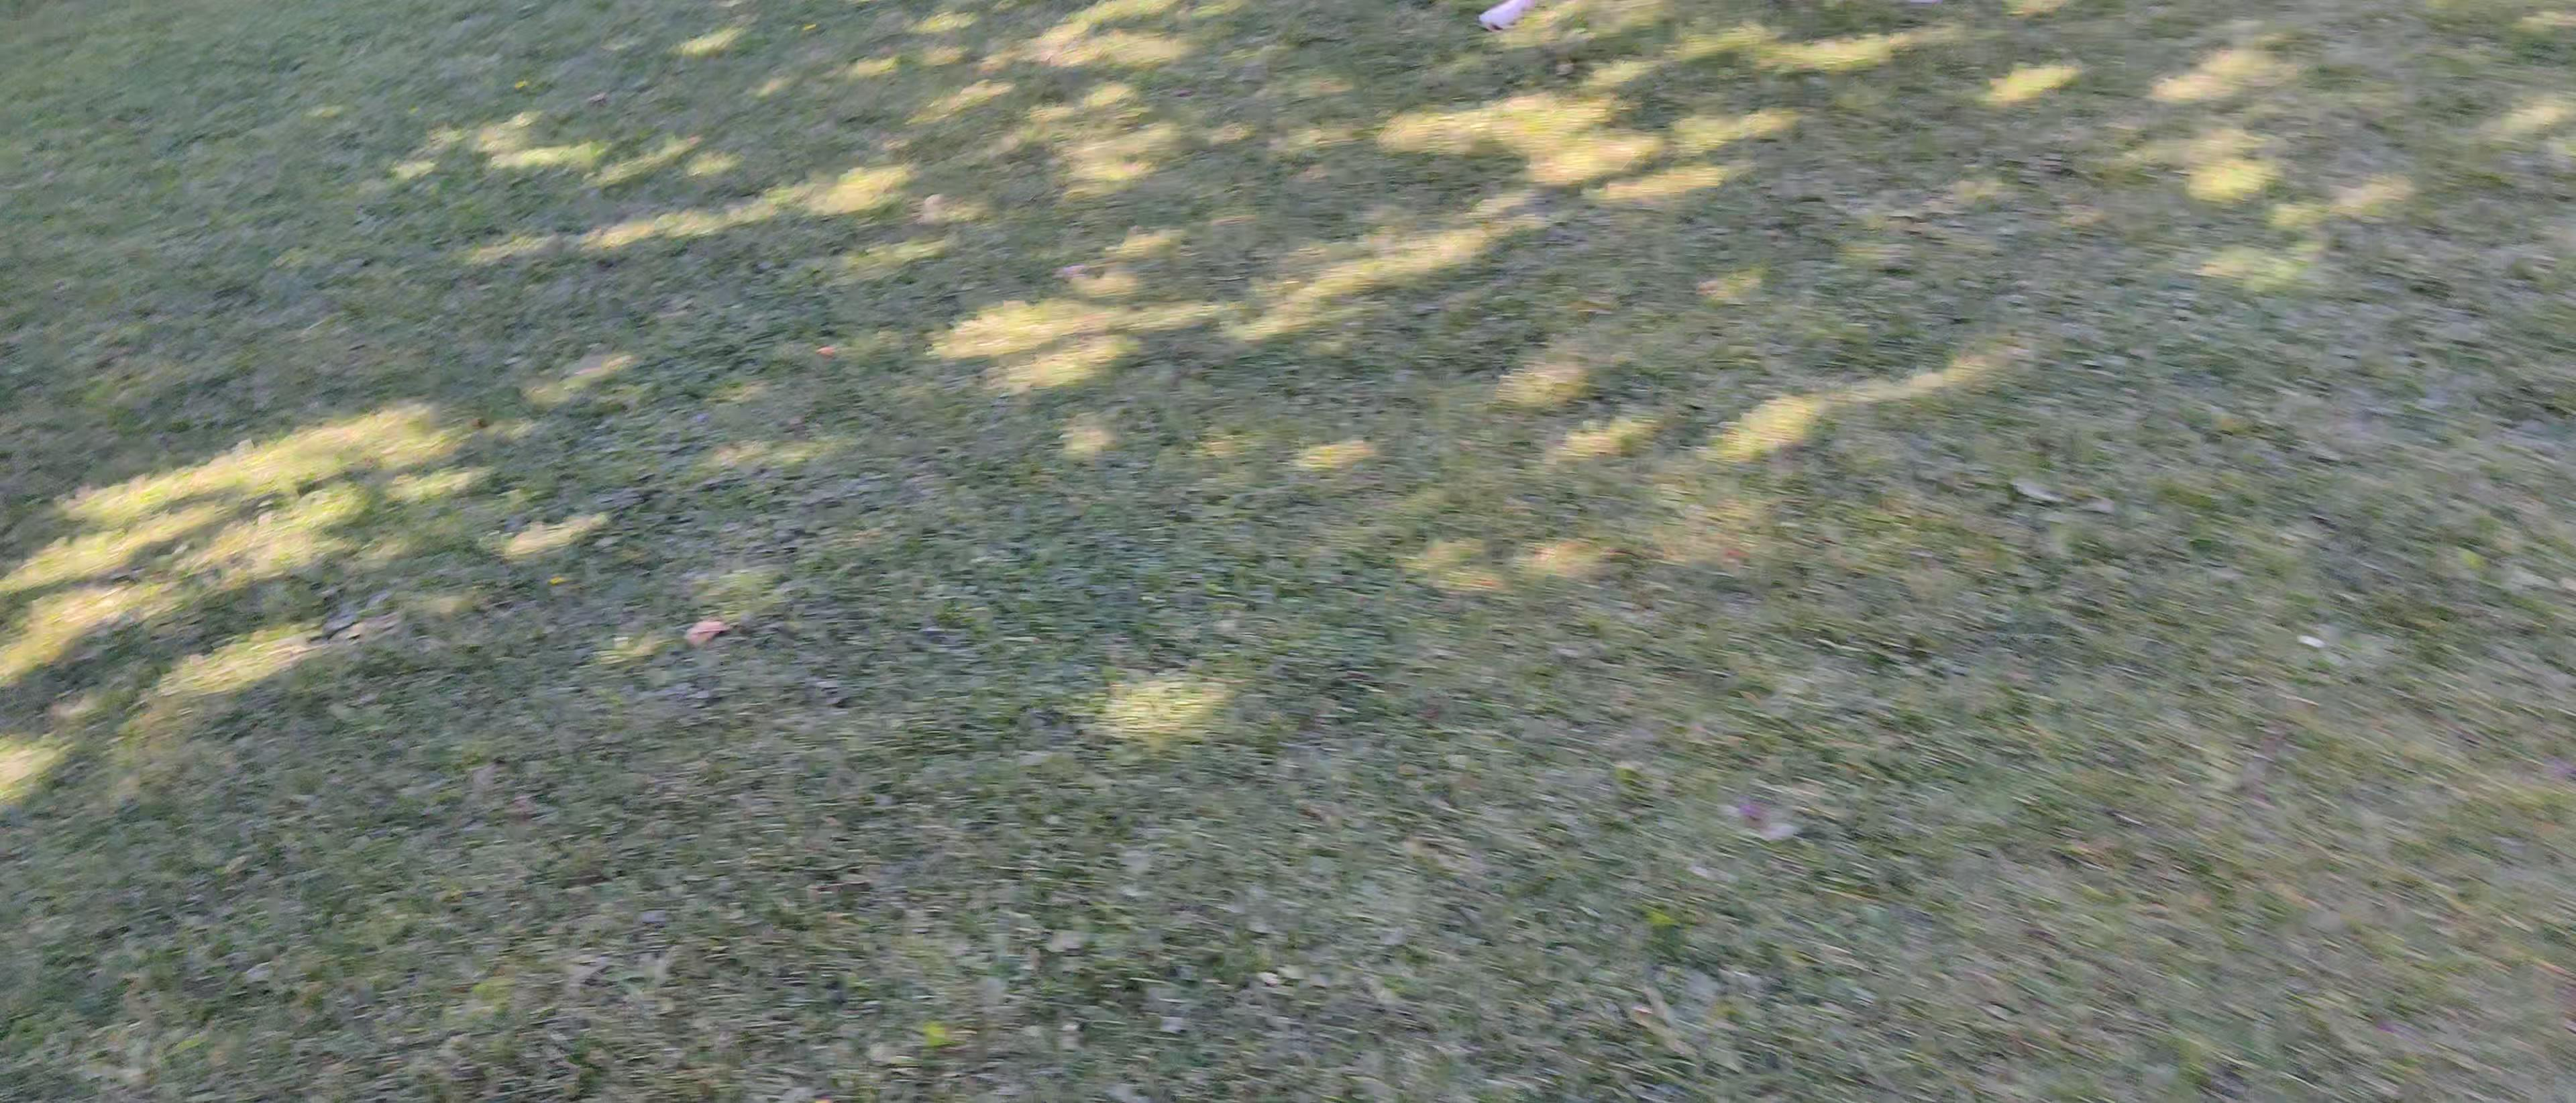Dog: (1447, 0, 1577, 46)
